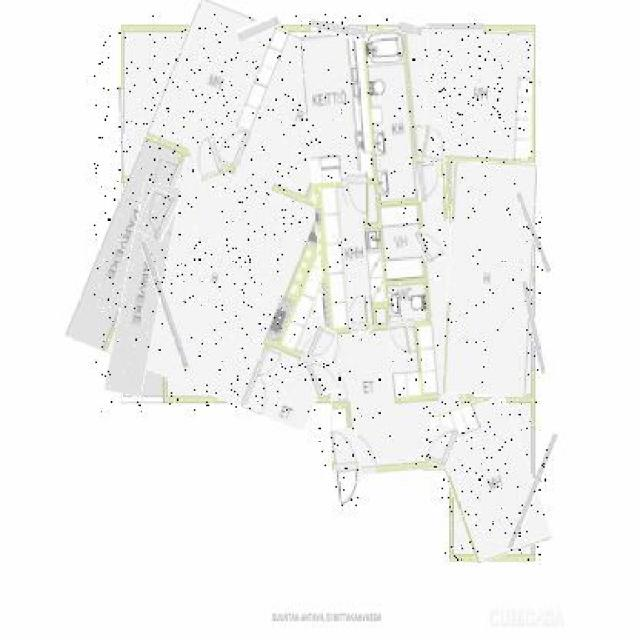door: (332, 429, 362, 506), (138, 191, 174, 240), (191, 137, 223, 180), (308, 358, 340, 396), (428, 424, 455, 468), (348, 171, 369, 218), (419, 164, 443, 202), (417, 228, 443, 262), (422, 129, 448, 163), (389, 320, 411, 357), (349, 296, 369, 336), (309, 328, 334, 360)
window: (151, 238, 178, 369), (520, 432, 548, 552), (523, 194, 543, 274), (526, 282, 540, 376), (312, 22, 368, 38), (237, 18, 280, 37), (118, 88, 125, 180), (426, 24, 483, 34), (398, 22, 422, 36)
zone: (94, 14, 409, 412), (309, 28, 460, 472), (446, 163, 536, 397), (440, 397, 542, 560), (425, 29, 532, 163), (115, 181, 171, 397), (320, 177, 385, 325)
